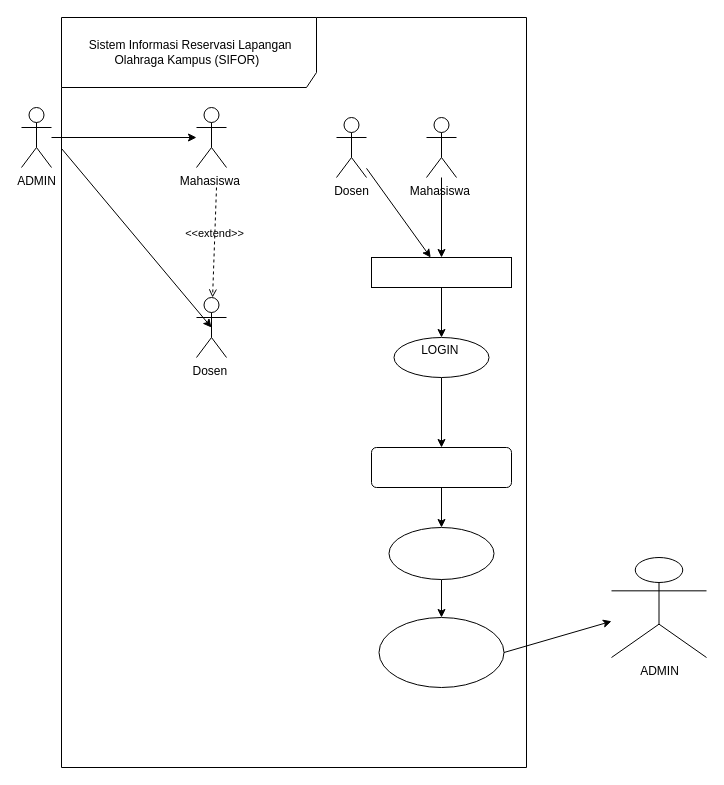
The diagram is 724 pixels wide and 785 high, and some of its shapes have lost their labels. The shapes that lost their labels are listed below. From the top down, each one's centre as x and y in pixels, then its label:
At (441,272): "Meminjam lapangan".
At (441,467): "Melihat jadwal tersedia".
At (441,553): "Melakukan pembayaran".
At (441,652): "validasi".
